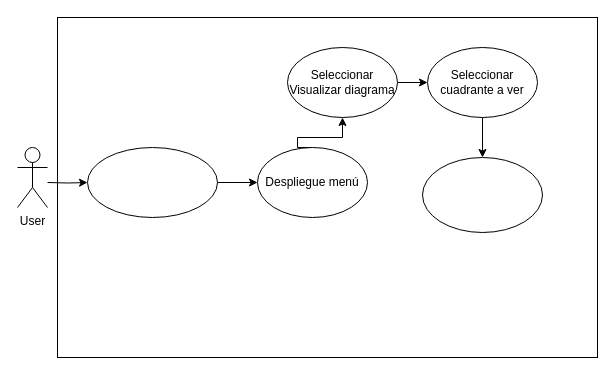
This 615x375 diagram has some shape labels left out. Here are the shapes that lost their labels. From the top down, the centre of each, then its label:
point (152, 182): Iniciar sesión
point (482, 194): Visualizar temperatura cuadrante
